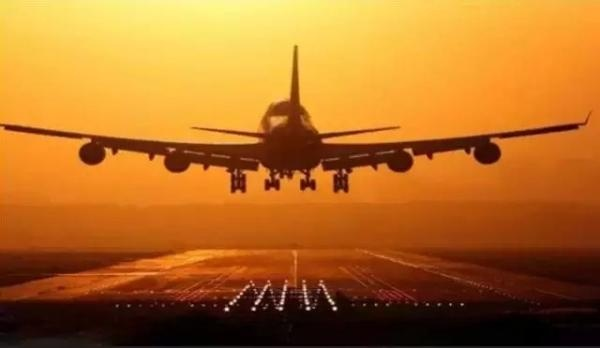airplane: (1, 42, 595, 187)
